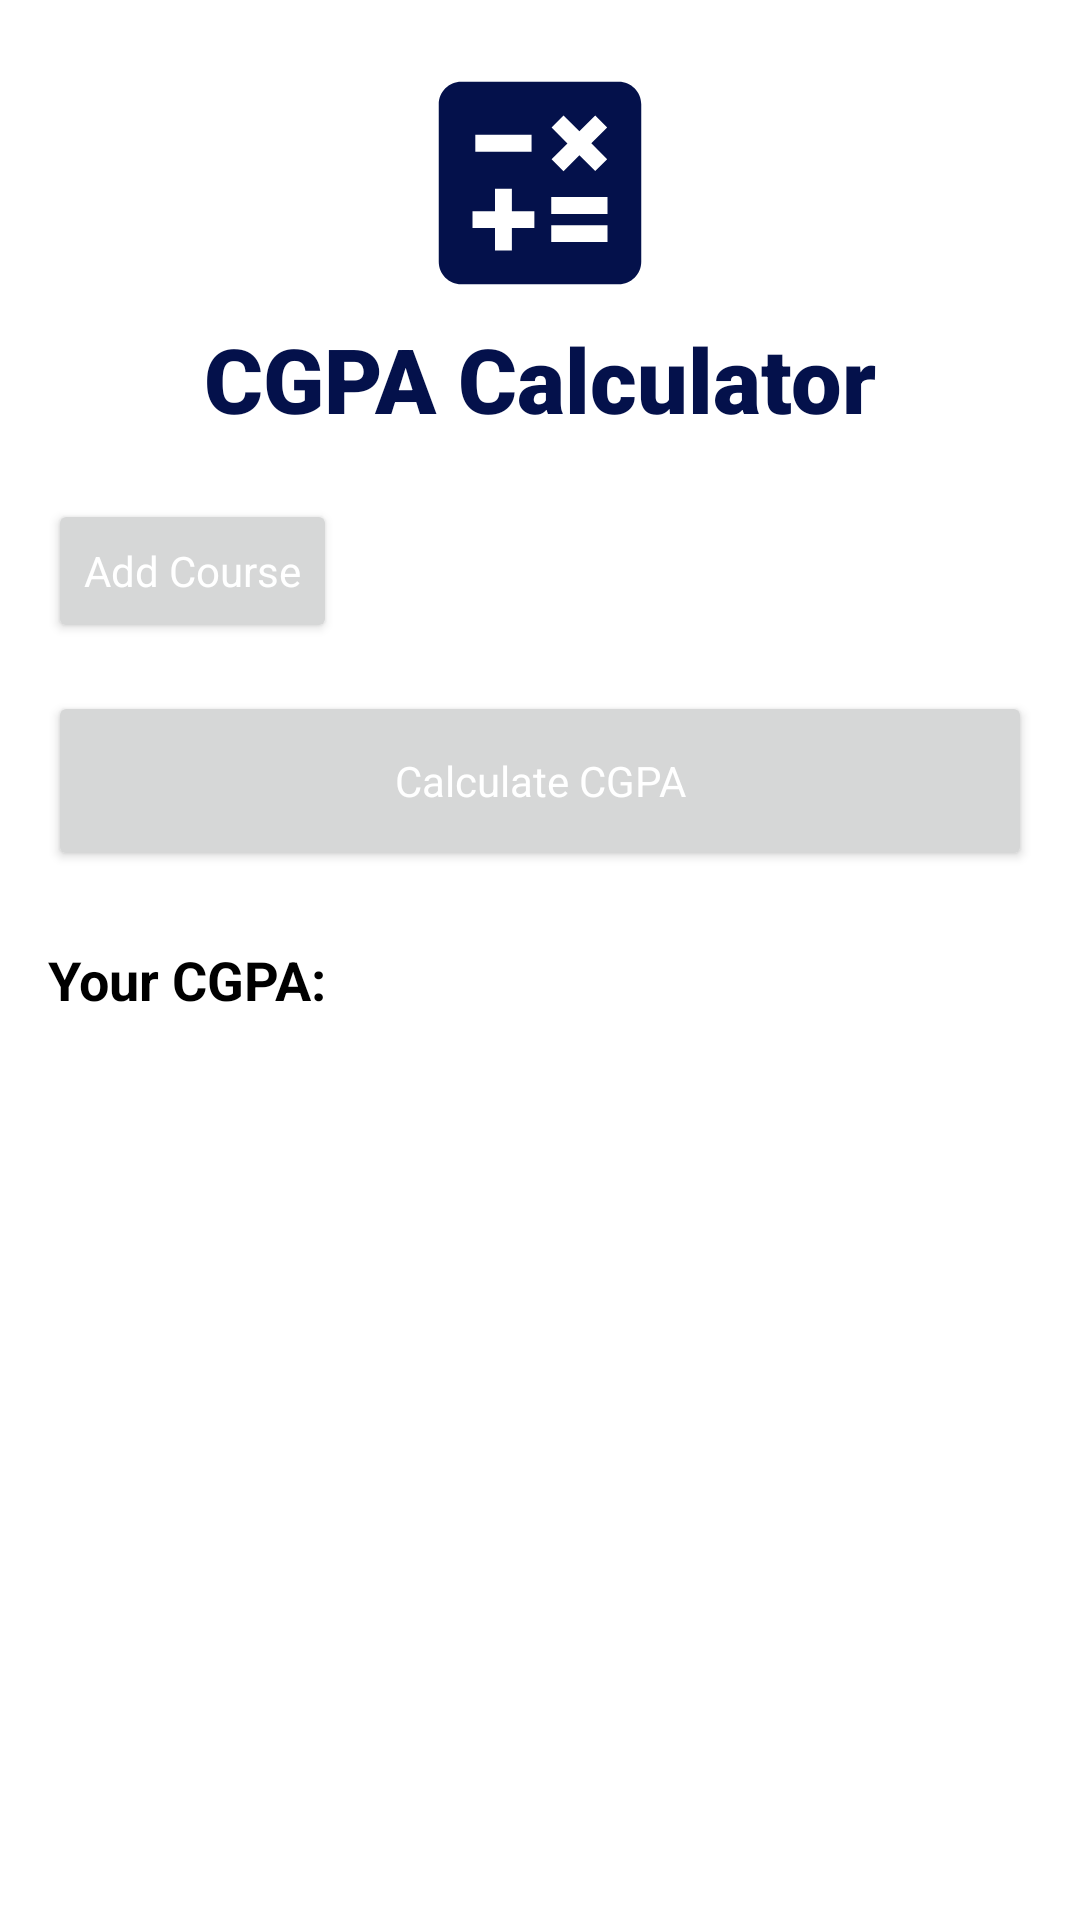

Point at icon controls on the screen. Image size 1080px×1920px, points as point (x, y).
calculate: point (540, 183)
